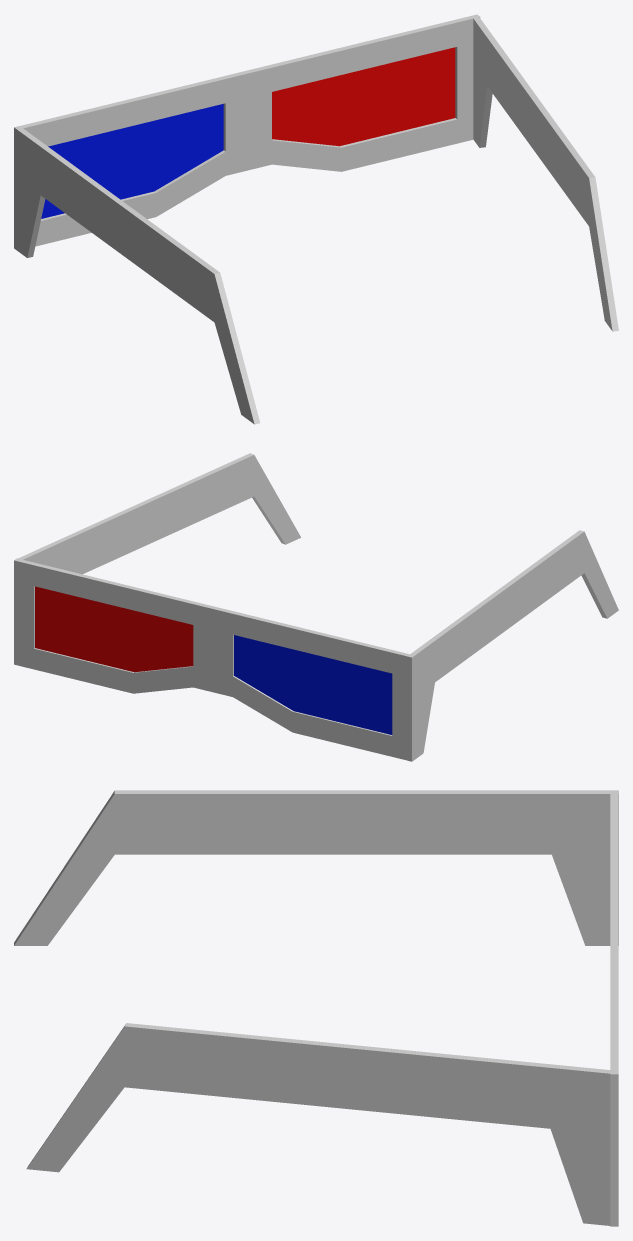
File: 3d glasses.fbx
The picture shows the model from 3 angles, top to bottom: view 1: azimuth 30°, elevation 25°; view 2: azimuth 150°, elevation 25°; view 3: azimuth 270°, elevation 25°; orthographic projection. The views are drawn at different scales.
Parts seen in each view (by area): view 1: Line001, Plane001, Plane002; view 2: Line001, Plane003, Plane004; view 3: Line001.
Boxes of the visible parts, box(x1,y1,x2,y2) form: Line001: box(14, 14, 618, 424); Plane001: box(272, 47, 455, 146); Plane002: box(41, 104, 223, 218); Line001: box(14, 453, 618, 761); Plane003: box(35, 586, 193, 672); Plane004: box(234, 635, 392, 734); Line001: box(14, 790, 618, 1226).
Size of the model in its own units: 200 by 180 by 50.
